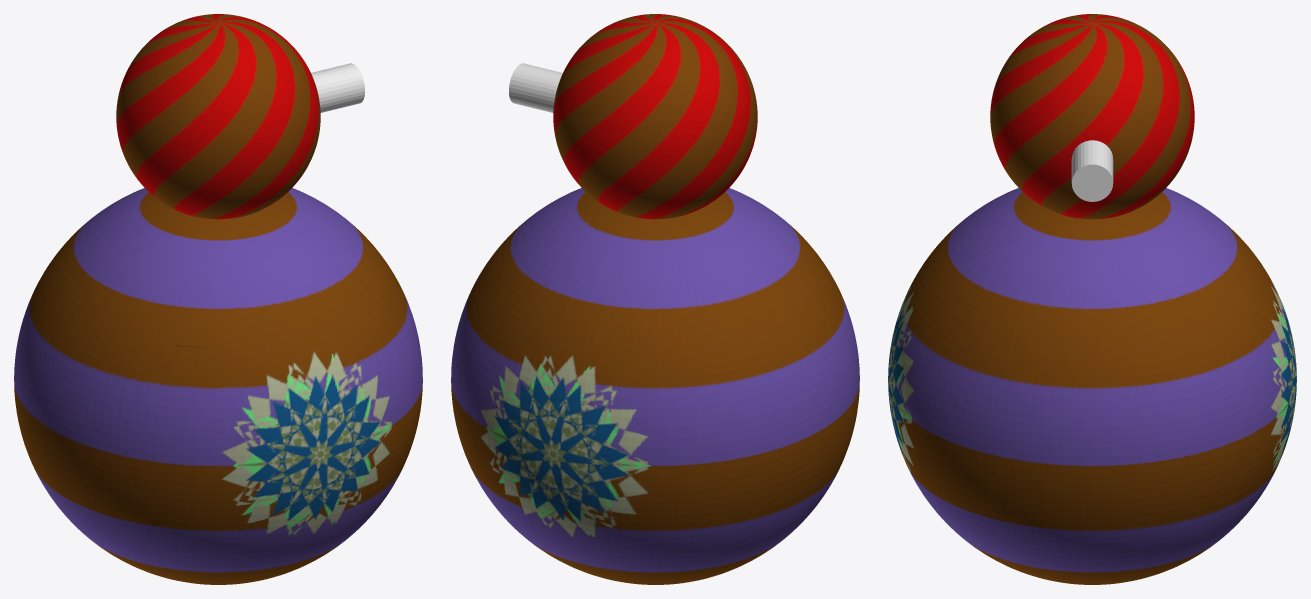
The model's file is BOD0_BMC3_BCC9_BPT1_FRC4_HEA0_HMC4_HCC3_HPT3_ELT0_ERT1_ELL2_ERL2_AP0_AAL1_AAR1_BEK0.fbx.
3 renders of one model, left to right at view 1: azimuth 30°, elevation 25°; view 2: azimuth 150°, elevation 25°; view 3: azimuth 270°, elevation 25°, orthographic.
Parts seen in each view (by area): view 1: Body, Ear; view 2: Body, Ear; view 3: Body, Ear.
Boxes of the visible parts, left/top/right/bottom form: Body: left=14, top=14, right=422, bottom=584; Ear: left=311, top=63, right=364, bottom=112; Body: left=451, top=14, right=859, bottom=584; Ear: left=509, top=63, right=562, bottom=112; Body: left=888, top=14, right=1296, bottom=584; Ear: left=1071, top=140, right=1113, bottom=201.
Size of the model in its own units: 49.36 by 72.41 by 49.36.
Materials: 1 (1 with a texture image).
